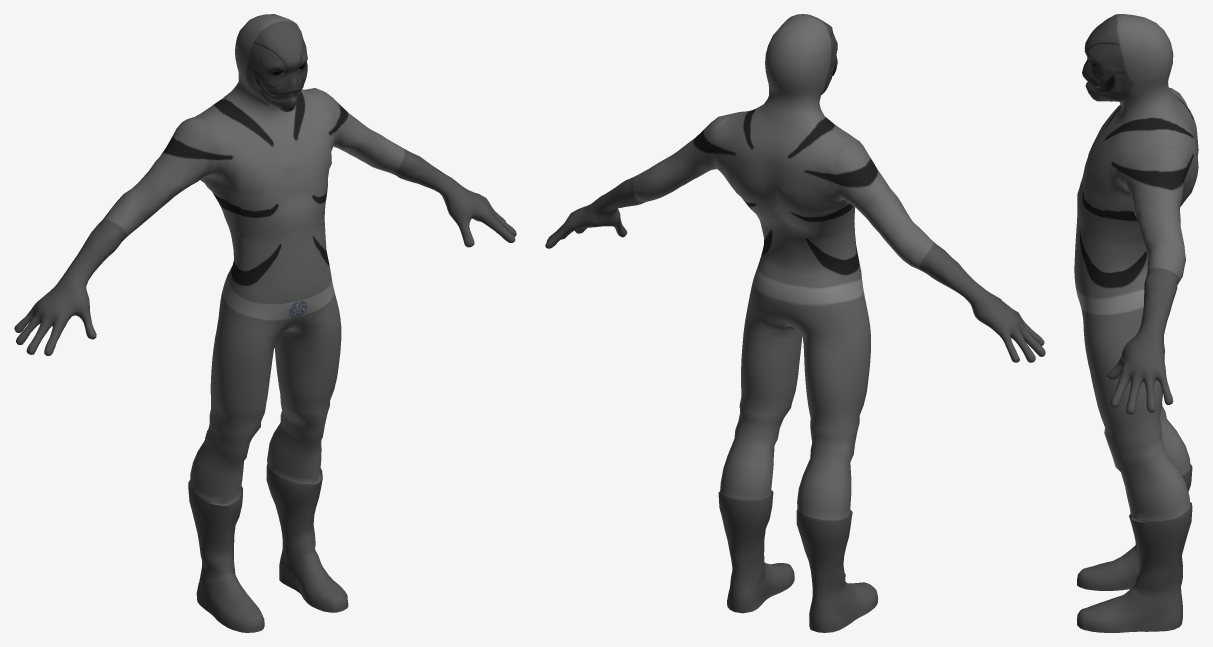
Rendered from putty_low.fbx.
The picture shows the model from 3 angles, left to right: view 1: azimuth 30°, elevation 25°; view 2: azimuth 150°, elevation 25°; view 3: azimuth 270°, elevation 25°; orthographic projection.
Parts seen in each view (by area): view 1: s02_putty_msh; view 2: s02_putty_msh; view 3: s02_putty_msh.
Boxes of the visible parts, bbox=[...] form: s02_putty_msh: bbox=[14, 14, 516, 632]; s02_putty_msh: bbox=[545, 14, 1045, 632]; s02_putty_msh: bbox=[1074, 14, 1198, 632].
Bounding box in the file's own units: 277 × 317 × 60.8.
